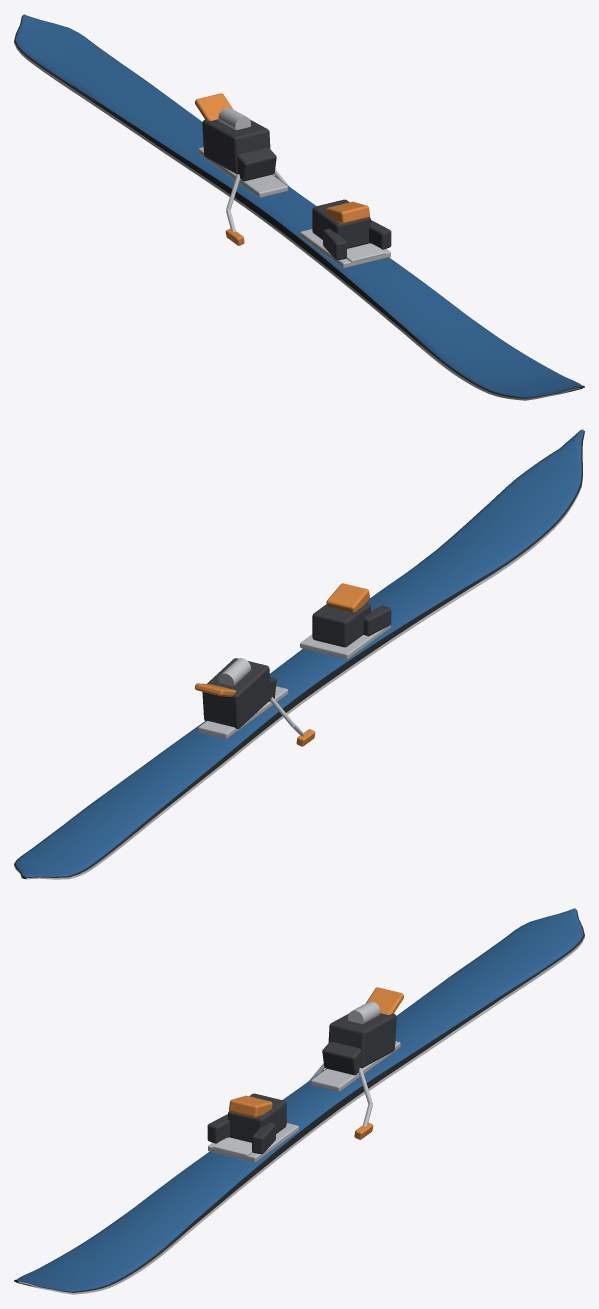
The model's file is Ski.fbx.
3 renders of one model, top to bottom at view 1: azimuth 30°, elevation 25°; view 2: azimuth 150°, elevation 25°; view 3: azimuth 330°, elevation 25°, orthographic.
Parts seen in each view (by area): view 1: Ski; view 2: Ski; view 3: Ski.
Boxes of the visible parts, x1,y1,x2,y2 form: Ski: [14, 14, 584, 400]; Ski: [14, 429, 584, 879]; Ski: [14, 908, 584, 1294].
Bounding box in the file's own units: 0.1402 × 0.1626 × 1.72.
